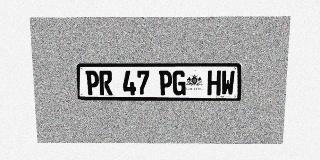4: (123, 70, 136, 95)
7: (136, 70, 150, 95)
G: (173, 70, 186, 95)
H: (207, 70, 221, 95)
P: (86, 70, 99, 95), (159, 70, 172, 95)
R: (99, 70, 113, 95)
W: (221, 70, 235, 95)
